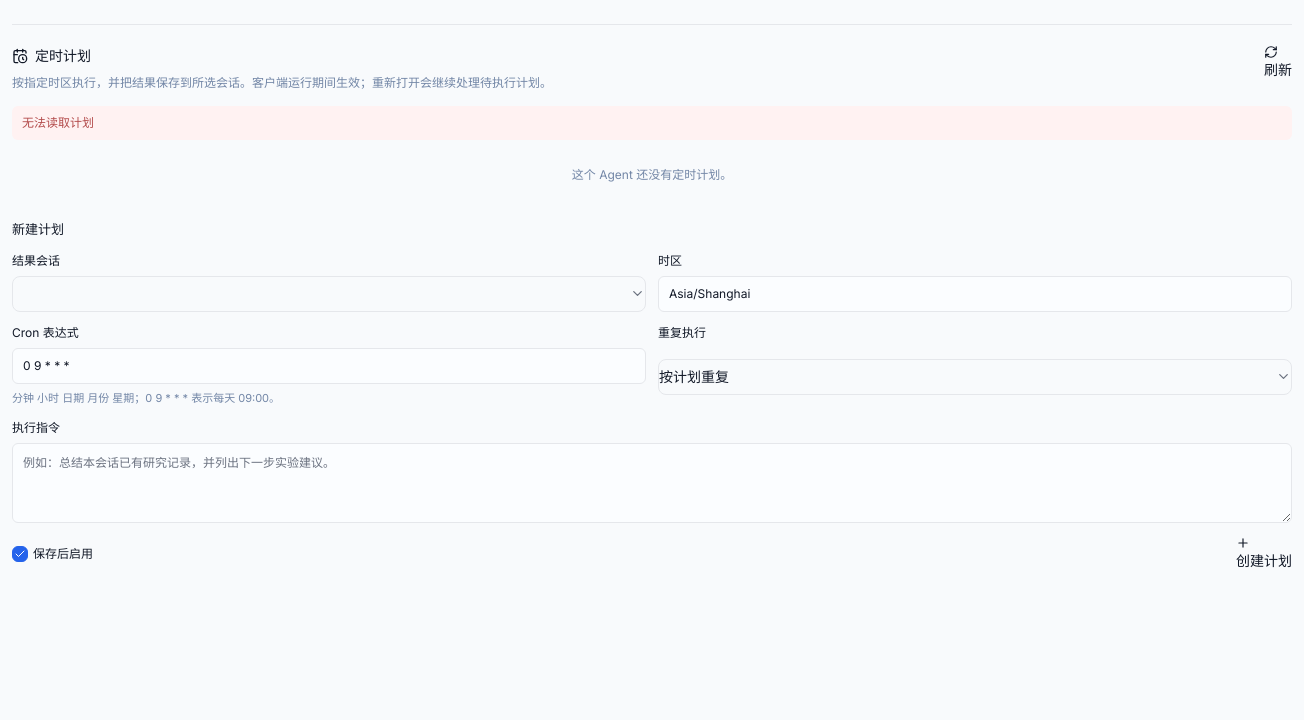
AgentSchedulesPanel › shows a loading service error and recovers when refreshed
Expected: the message reads "无法读取计划", [22,115,94,130]
Click the button "刷新". click: (1278, 62)
box: [1264,45,1292,80]
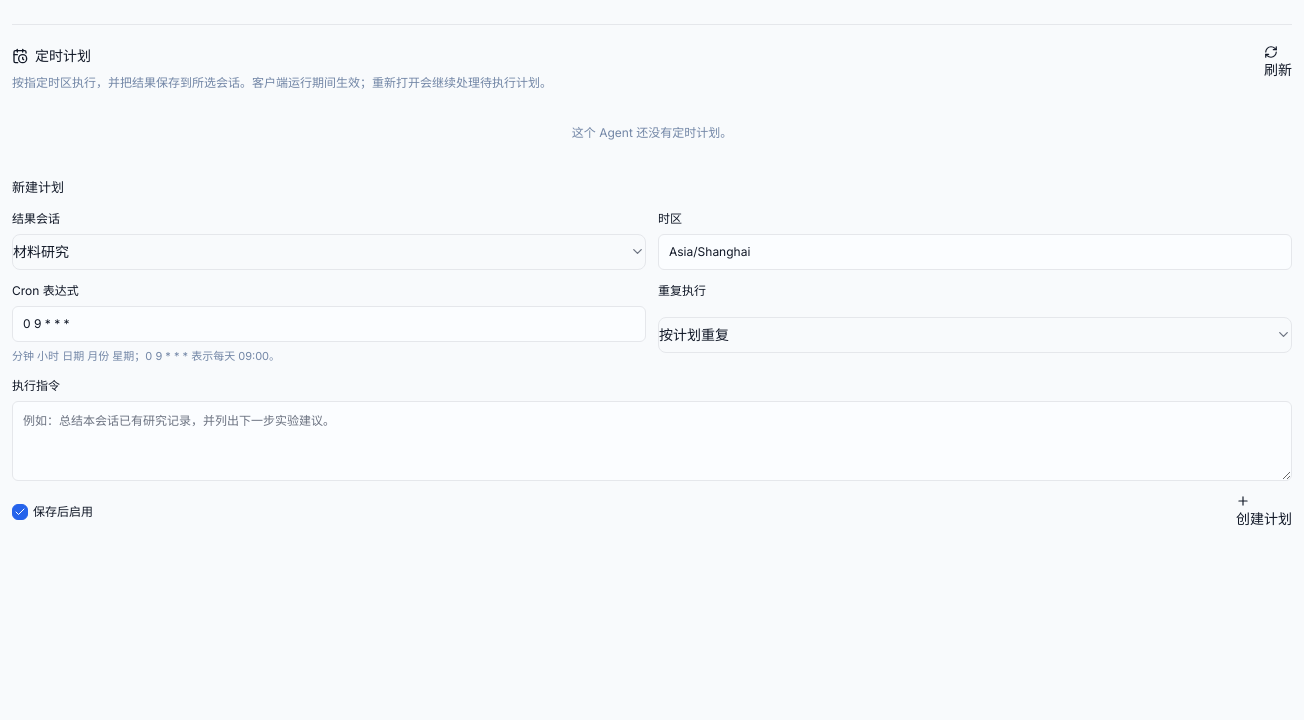
Expected: the dropdown named "结果会话" is enabled, [12,234,646,270]
Expected: the message "无法读取计划" is gone
